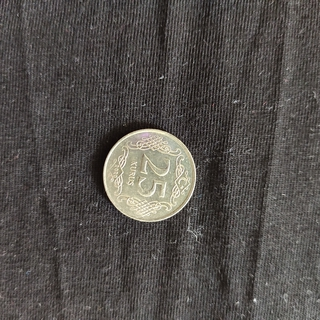25KURUS: (101, 127, 197, 223)
